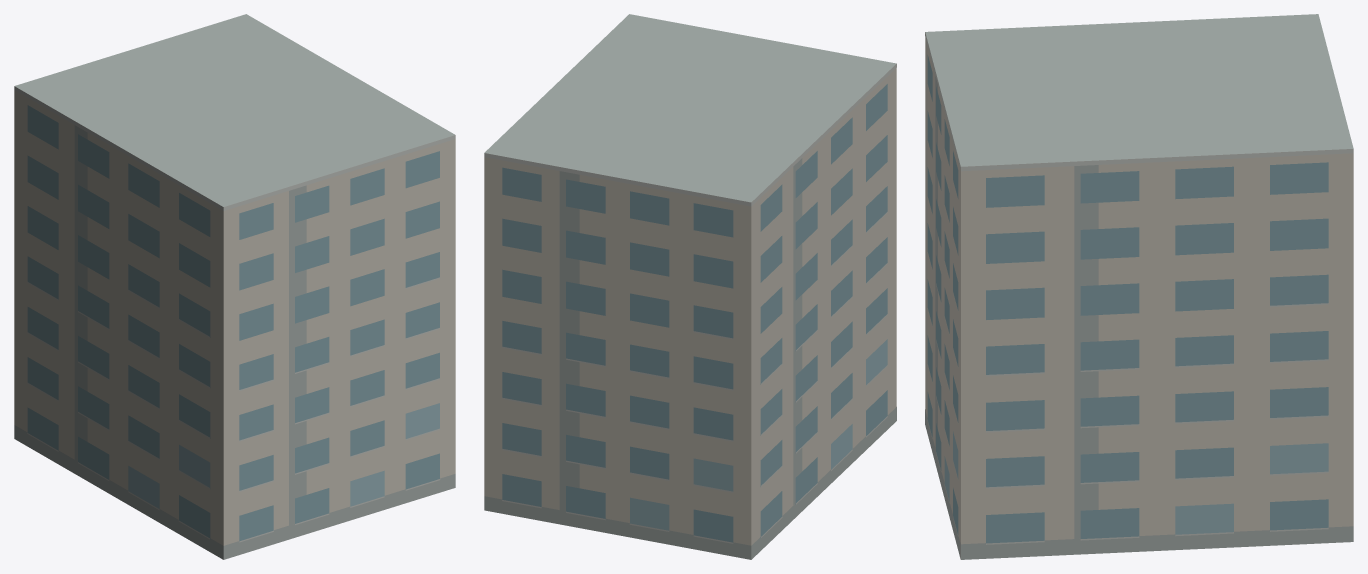
File: survey-upis-33025582.glb
The picture shows the model from 3 angles, left to right: view 1: azimuth 30°, elevation 25°; view 2: azimuth 150°, elevation 25°; view 3: azimuth 270°, elevation 25°; orthographic projection. The views are drawn at different scales.
Visible parts, largest first — view 1: survey-upis-33025582.tmp; view 2: survey-upis-33025582.tmp; view 3: survey-upis-33025582.tmp.
Boxes of the visible parts, x1,y1,x2,y2 form: survey-upis-33025582.tmp: [14, 14, 455, 559]; survey-upis-33025582.tmp: [484, 14, 896, 559]; survey-upis-33025582.tmp: [925, 14, 1353, 559].
Bounding box in the file's own units: 17.8 × 21.35 × 21.1.
